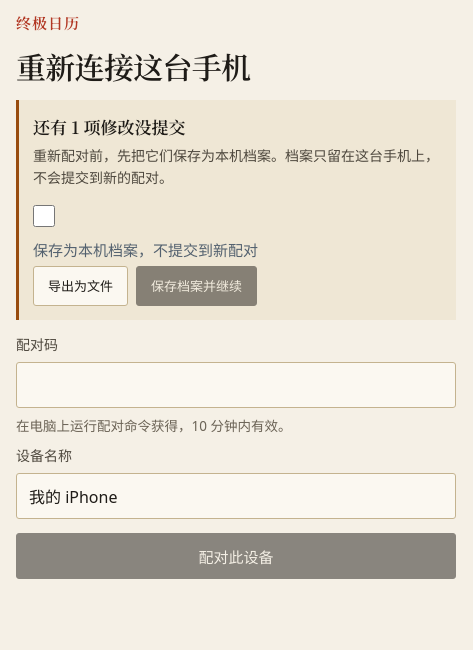
remote browser shell › leaves the old queue in place when isolation storage fails
Click the checkbox labelled "保存为本机档案，不提交到新配对".
click(44, 216)  # box [33, 205, 55, 227]
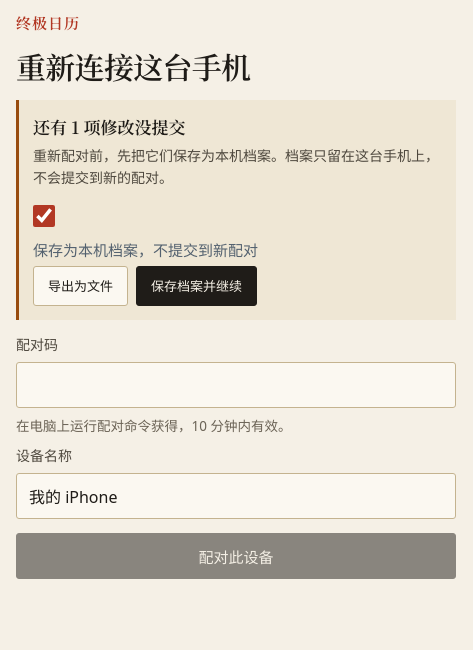
Click the button "保存档案并继续".
click(196, 286)  # box [136, 266, 257, 306]
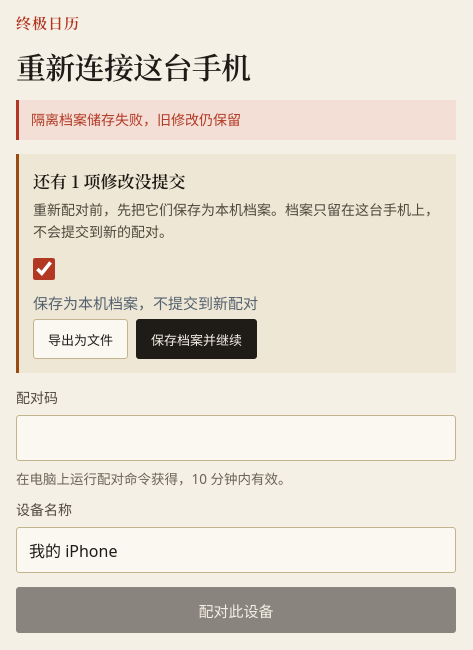
Expected: the button "配对此设备" is disabled, [16, 587, 456, 633]
Now the message "隔离档案储存失败，旧修改仍保留" is shown, box [16, 100, 456, 140]
